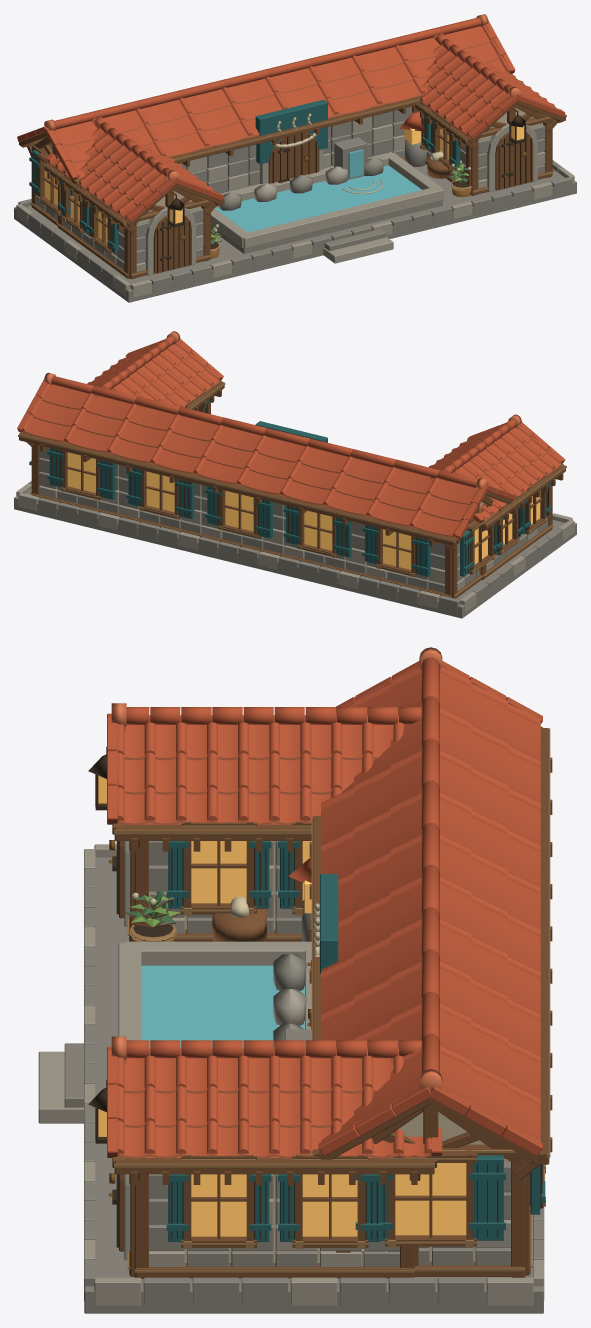
The picture shows the model from 3 angles, top to bottom: view 1: azimuth 30°, elevation 25°; view 2: azimuth 150°, elevation 25°; view 3: azimuth 270°, elevation 25°; orthographic projection. The views are drawn at different scales.
Visible parts, largest first — view 1: alpine_onsen_1_geometry, alpine_onsen_1_geometry ceramic; view 2: alpine_onsen_1_geometry, alpine_onsen_1_geometry ceramic; view 3: alpine_onsen_1_geometry ceramic, alpine_onsen_1_geometry.
Part boxes in pixels (x1,y1,x2,y2): alpine_onsen_1_geometry: (14,73,576,302); alpine_onsen_1_geometry ceramic: (17,14,565,222); alpine_onsen_1_geometry: (14,344,576,618); alpine_onsen_1_geometry ceramic: (17,331,565,539); alpine_onsen_1_geometry ceramic: (107,647,542,1158); alpine_onsen_1_geometry: (38,726,552,1313).
Size of the model in its own units: 2.06 by 0.5126 by 1.02.
